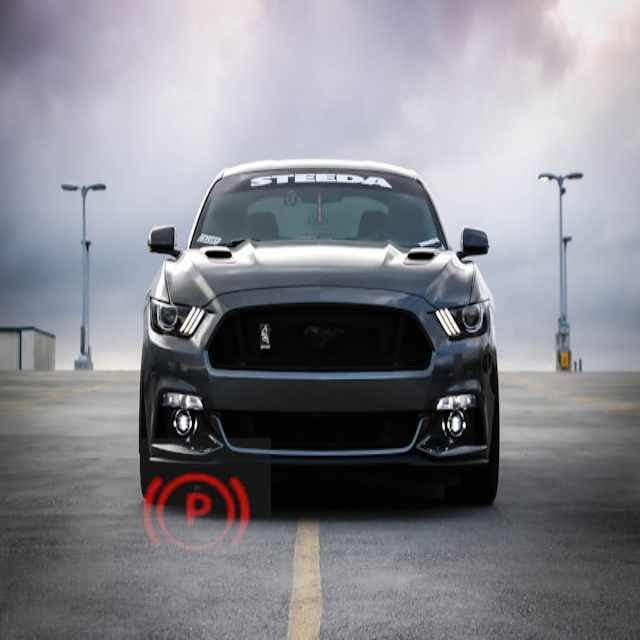symbol: (119, 438, 271, 590), (444, 60, 570, 186)
